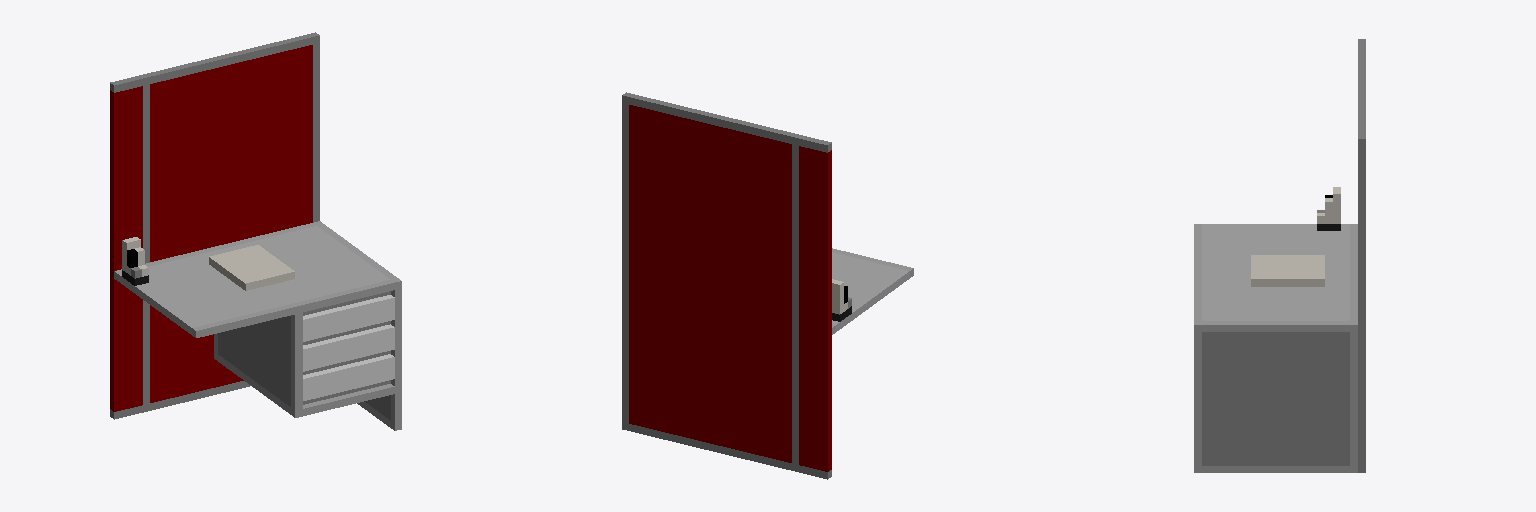
The picture shows the model from 3 angles: view 1: azimuth 30°, elevation 25°; view 2: azimuth 150°, elevation 25°; view 3: azimuth 270°, elevation 25°; orthographic projection.
Visible parts, largest first — view 1: object 1; view 2: object 1; view 3: object 1.
Part boxes in pixels (left/top/right/bottom): object 1: left=110, top=32, right=401, bottom=430; object 1: left=622, top=92, right=913, bottom=479; object 1: left=1194, top=39, right=1365, bottom=472.
Bounding box in the file's own units: 2.9 × 4.5 × 2.1.
1 materials, 1 textured.